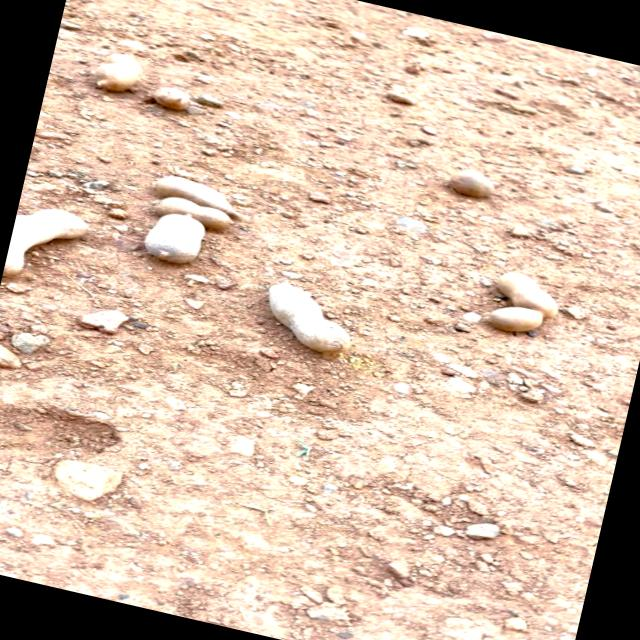tamarind: (250, 270, 368, 366), (0, 198, 101, 302), (480, 262, 575, 344), (138, 188, 256, 240), (140, 166, 255, 216), (140, 206, 221, 274), (84, 46, 152, 103), (151, 84, 194, 110)
